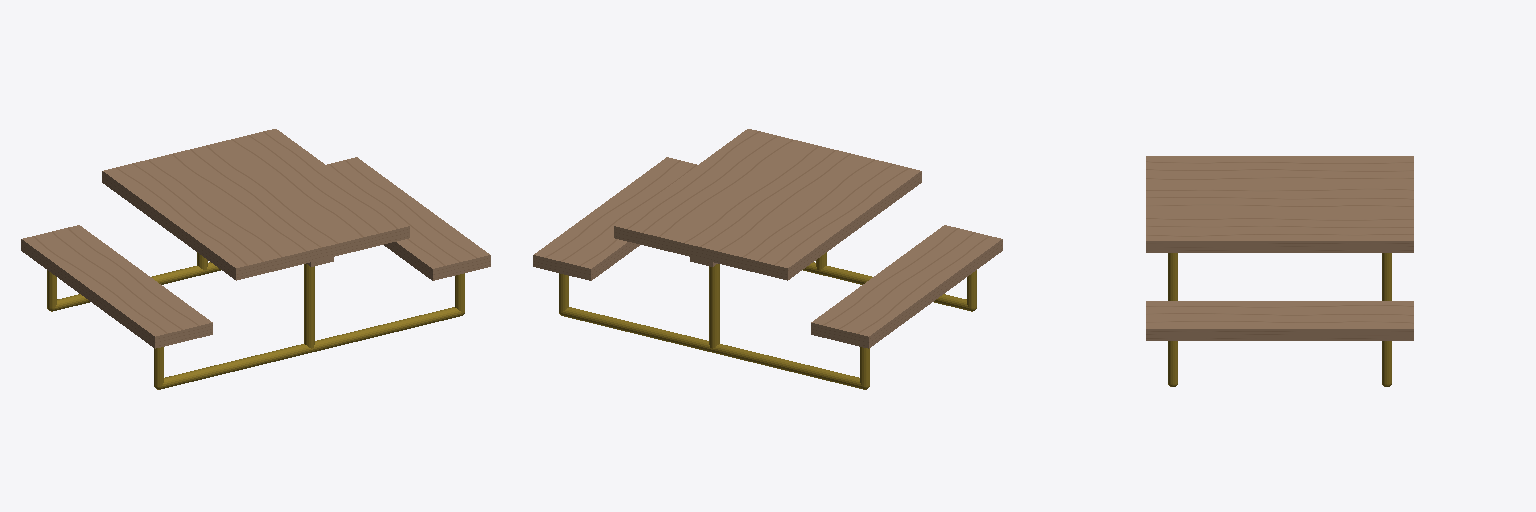
The picture shows the model from 3 angles: view 1: azimuth 30°, elevation 25°; view 2: azimuth 150°, elevation 25°; view 3: azimuth 270°, elevation 25°; orthographic projection.
Parts seen in each view (by area): view 1: bench1, bench4, bench2, bench3, bench, baseD1, baseD2, baseR5; view 2: bench1, bench4, bench2, bench3, bench, baseD2, baseD1, baseR6; view 3: bench, bench2, bench3, bench4.
Boxes of the visible parts, x1=… form: bench1: x1=21, y1=225, x2=212, y2=348; bench4: x1=102, y1=157, x2=293, y2=280; bench2: x1=218, y1=129, x2=409, y2=251; bench3: x1=161, y1=143, x2=351, y2=265; bench: x1=327, y1=157, x2=490, y2=280; baseD1: x1=162, y1=307, x2=461, y2=388; baseD2: x1=54, y1=262, x2=220, y2=310; baseR5: x1=304, y1=264, x2=314, y2=348; bench1: x1=811, y1=225, x2=1002, y2=348; bench4: x1=730, y1=157, x2=921, y2=280; bench2: x1=614, y1=129, x2=805, y2=251; bench3: x1=672, y1=143, x2=862, y2=265; bench: x1=533, y1=157, x2=696, y2=280; baseD2: x1=562, y1=307, x2=861, y2=388; baseD1: x1=803, y1=262, x2=969, y2=310; baseR6: x1=709, y1=264, x2=719, y2=348; bench: x1=1146, y1=301, x2=1413, y2=340; bench2: x1=1146, y1=213, x2=1413, y2=252; bench3: x1=1146, y1=184, x2=1413, y2=212; bench4: x1=1146, y1=156, x2=1413, y2=183.
Size of the model in its own units: 1.45 by 0.475 by 1.
2 materials, 2 textured.